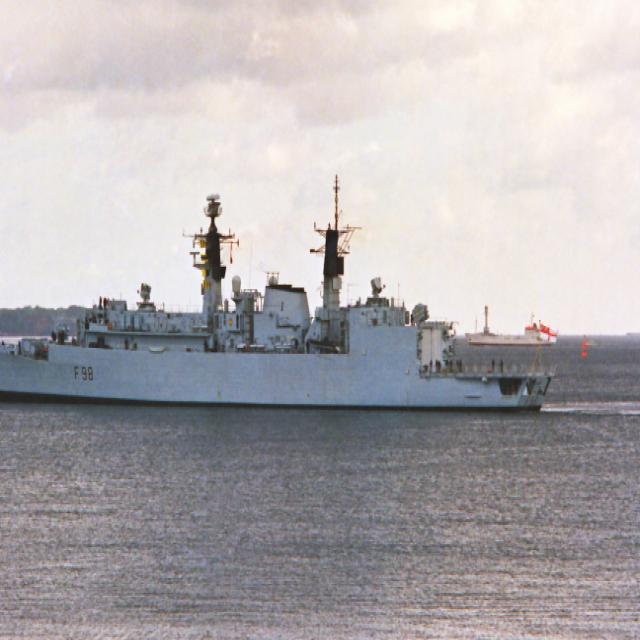Fragata: (1, 176, 558, 414)
